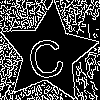C: (23, 28, 68, 81)
